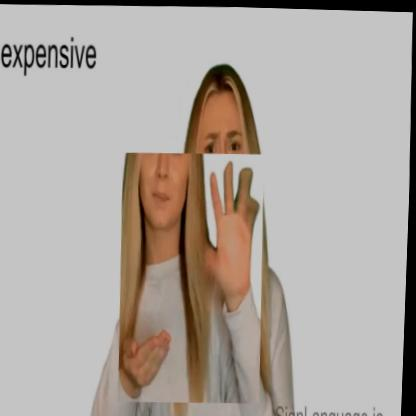Expensive: (116, 149, 269, 403)
